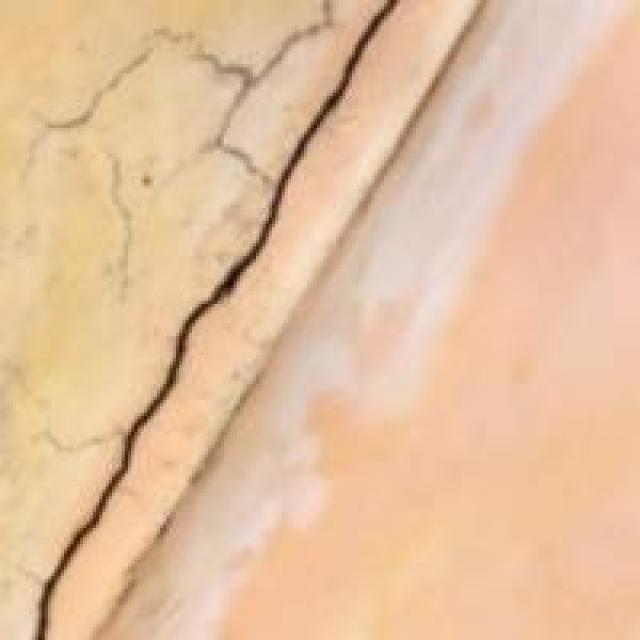Crack: (0, 0, 426, 637)
